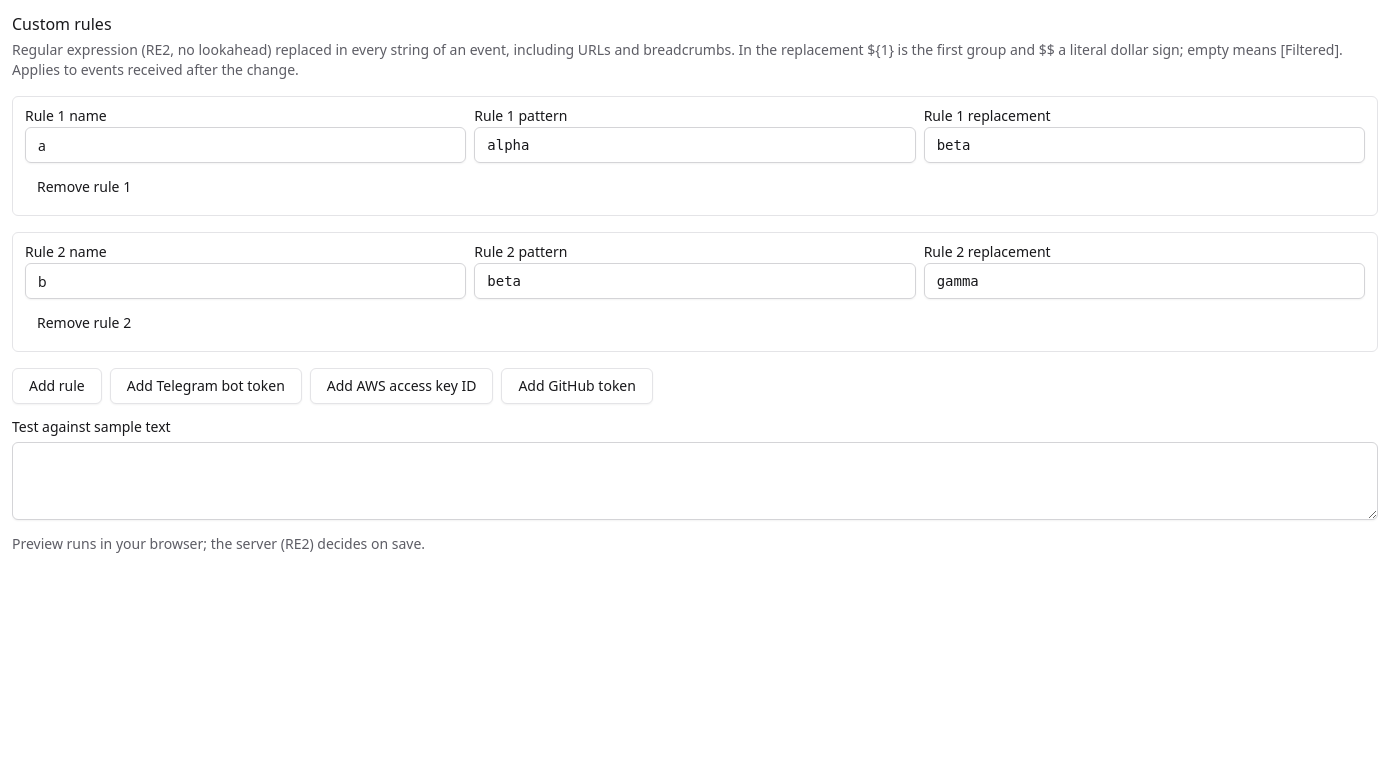
Test: ScrubRulesEditor › previews chained rules in list order
The width and height of the screenshot is (1390, 780).
Type "alpha" into the text box labelled "Test against sample text" at (695, 481), box [12,442,1378,520]
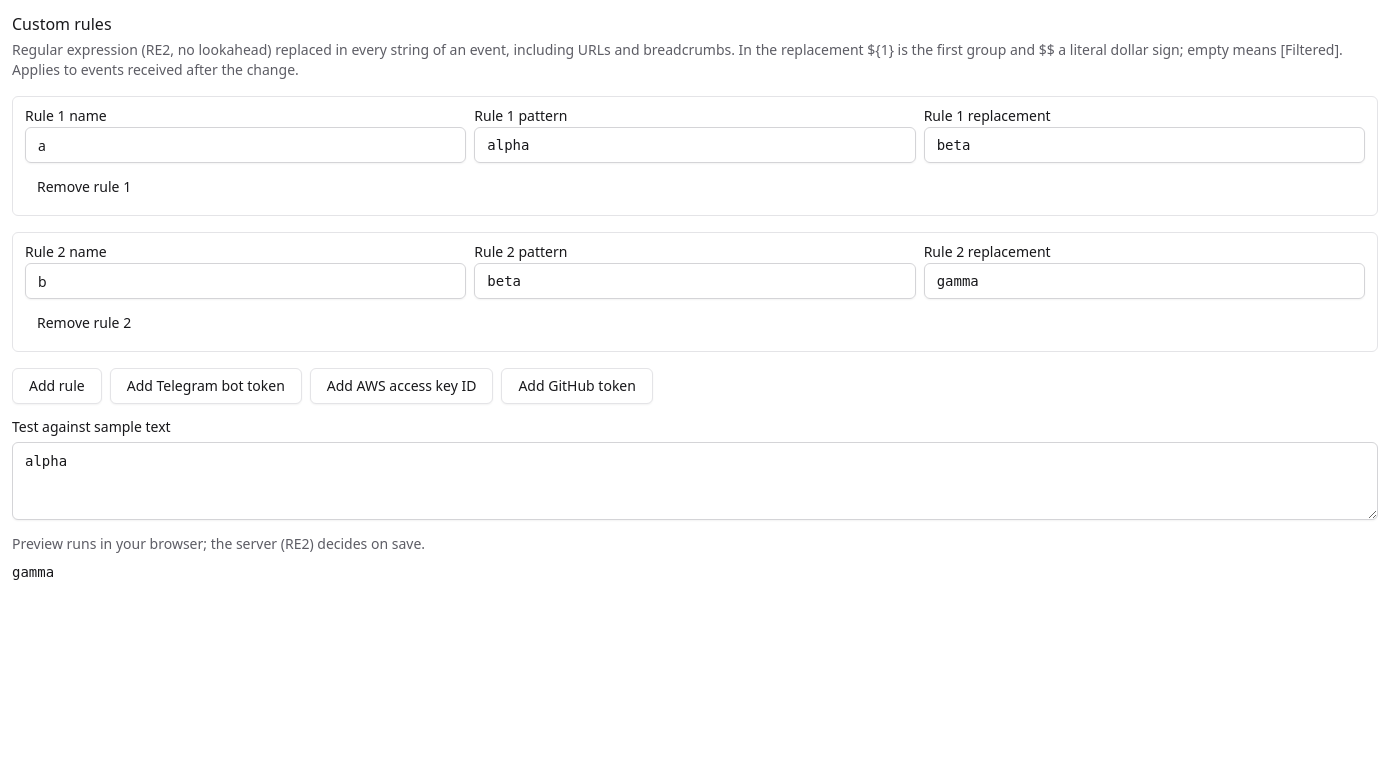
Expected: the text named "Result" reads "gamma", [12,564,54,580]
